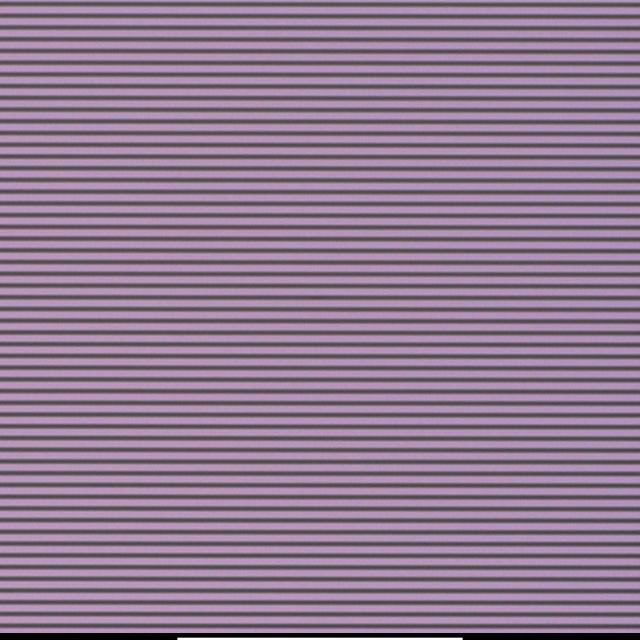nonvisual: (309, 294, 326, 308)
